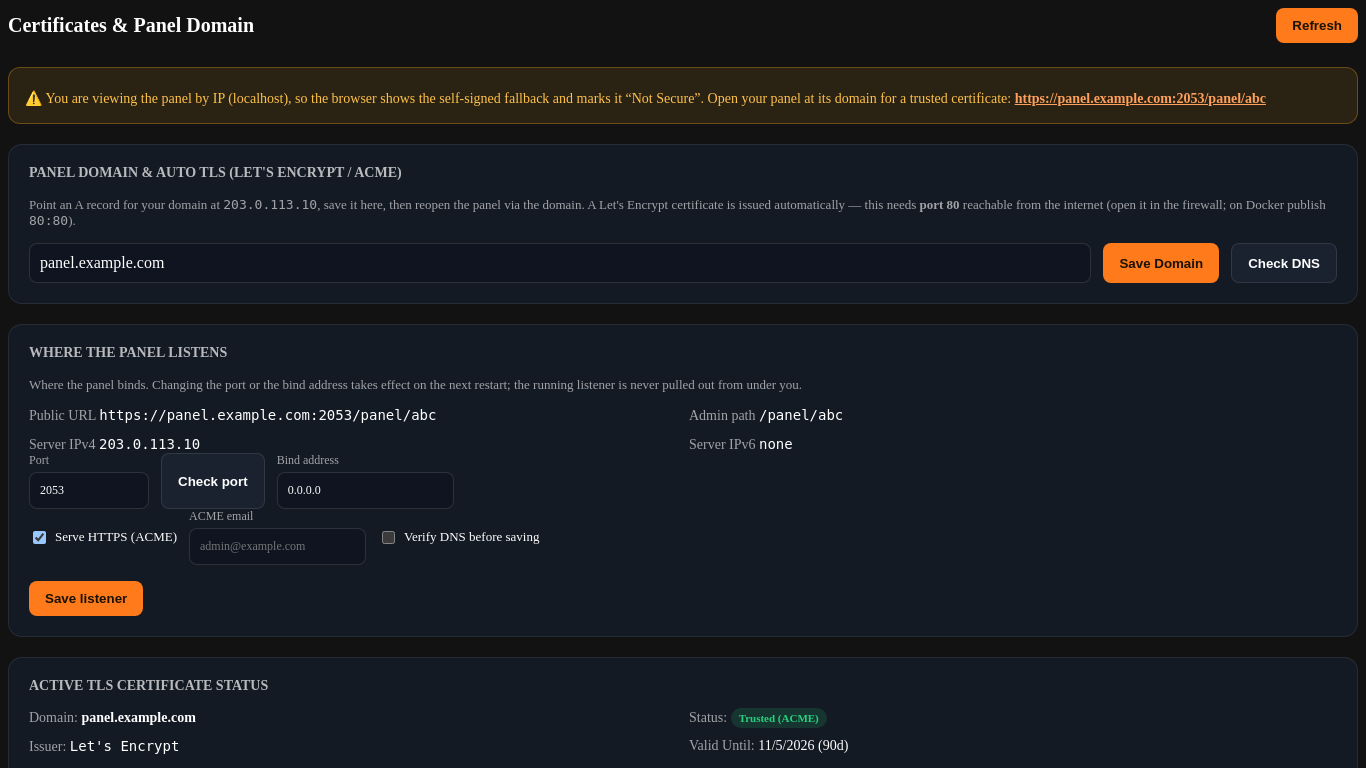
Scenario: CertificatesView panel listener › explains the domain rule rather than letting the server answer with a 400
Expected: the number field with test id "port-input" is shown, [29,472,149,509]
Type "not a domain" into the field with test id "domain-input" at (560, 263), box [29,243,1091,283]
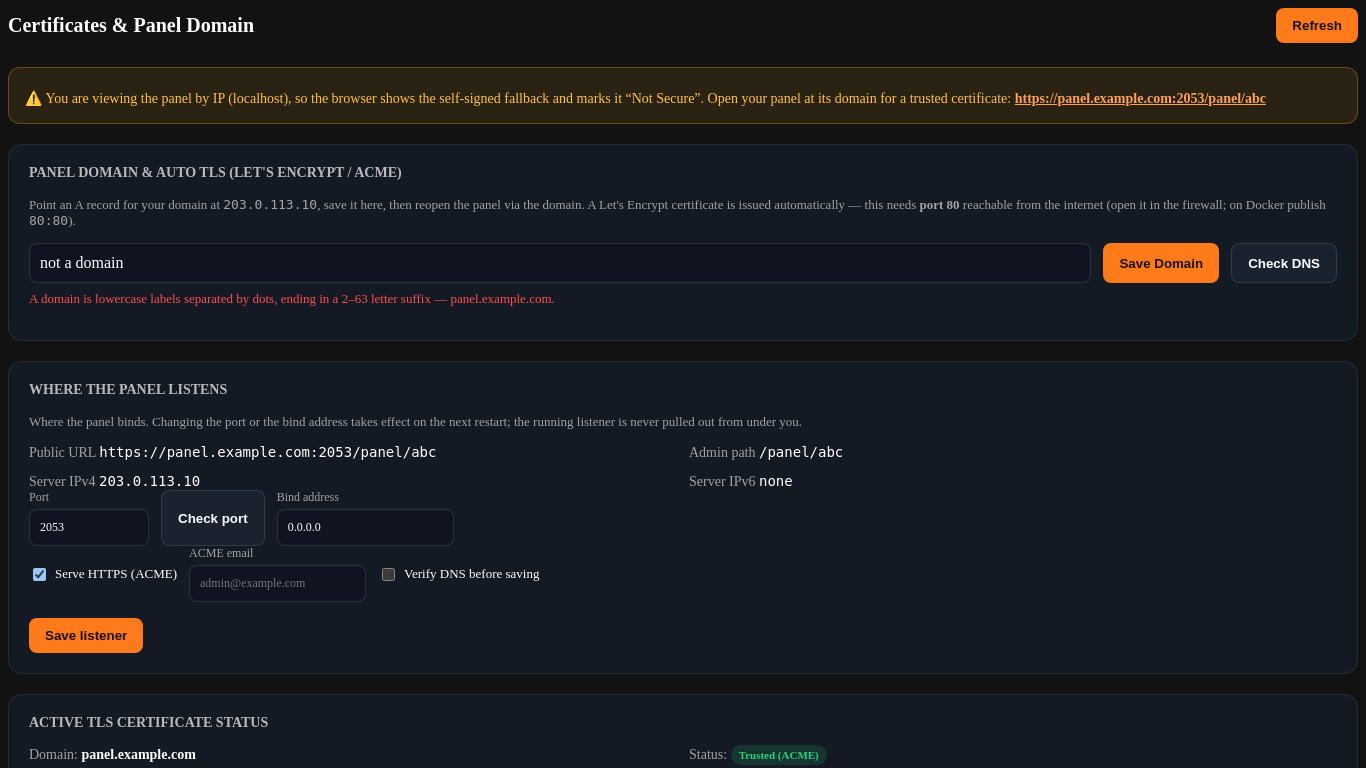
Result: the text with test id "domain-invalid" is shown at [29,291,555,306]
